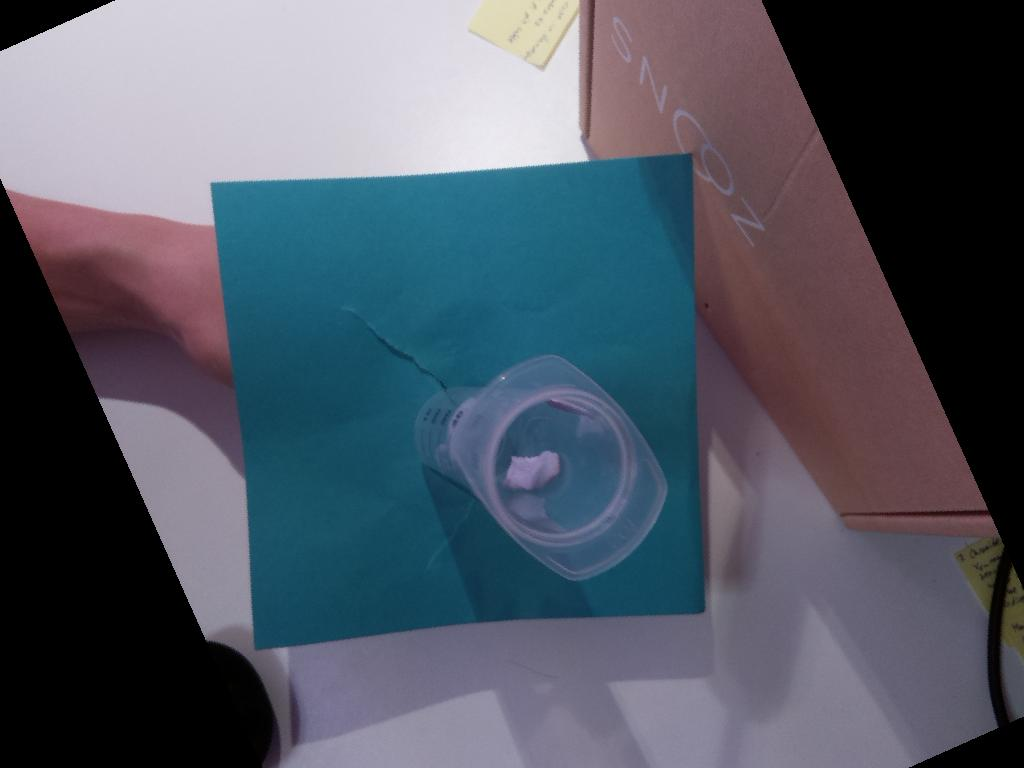dirty: (454, 355, 669, 581)
